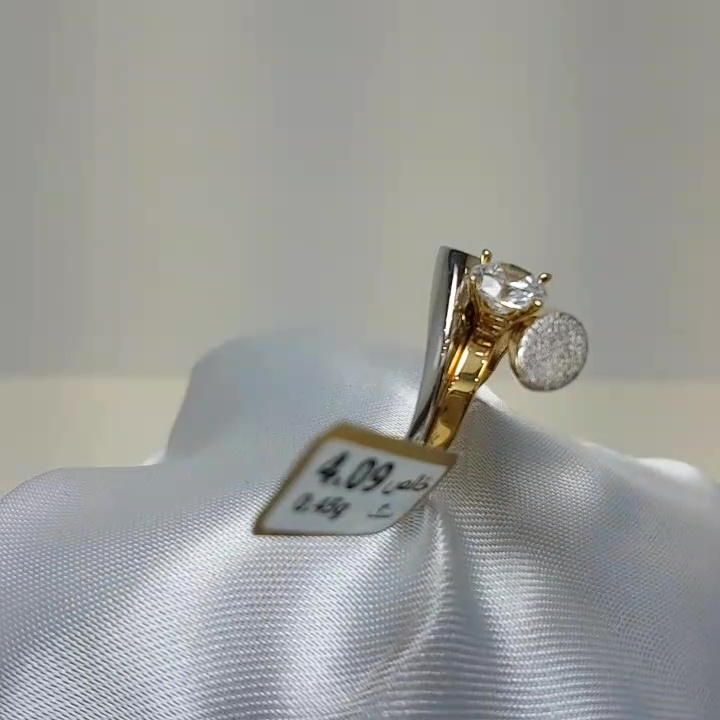Ring 7: (388, 218, 615, 504)
